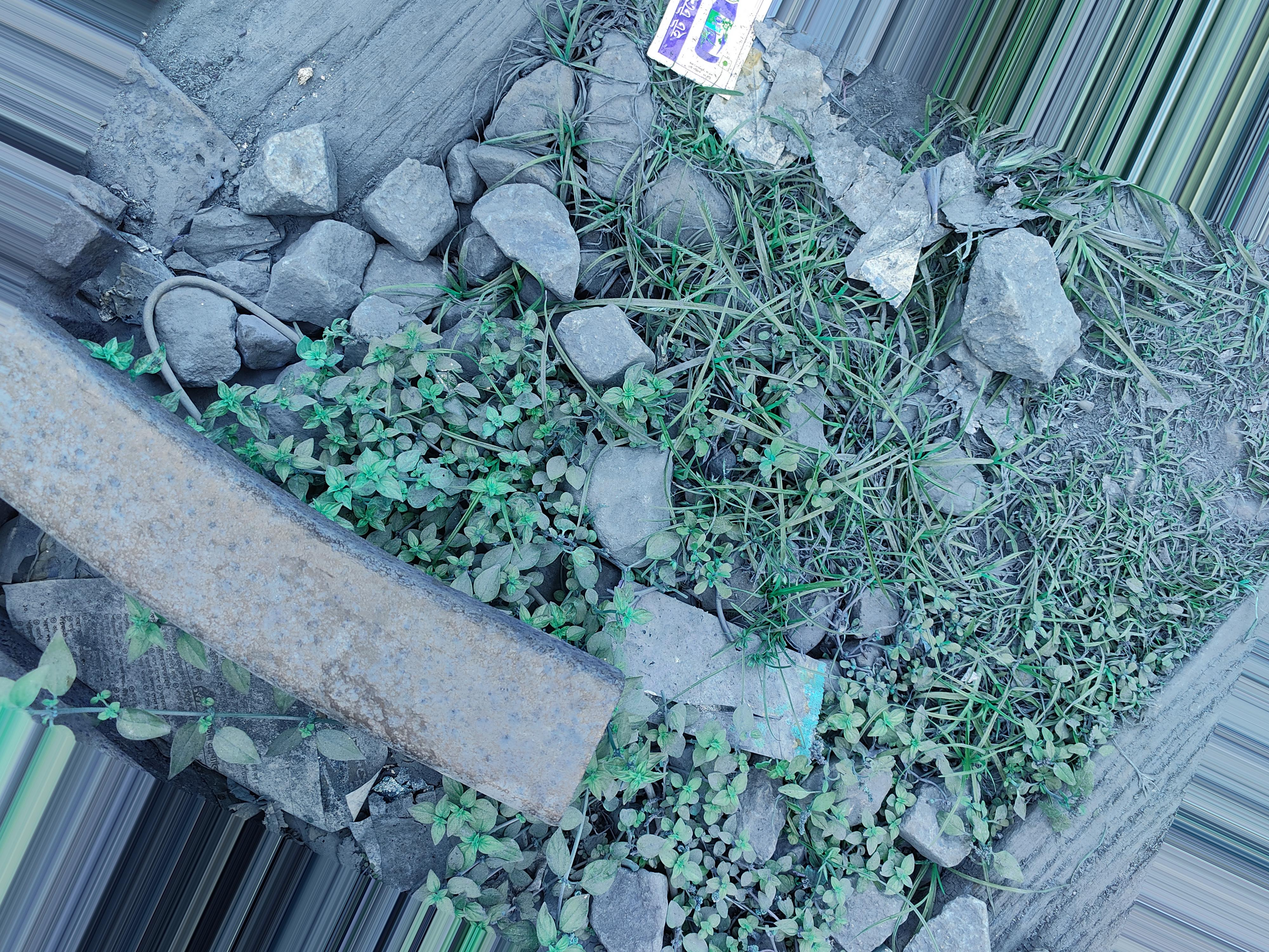tracks_fault: (536, 651, 1090, 900)
